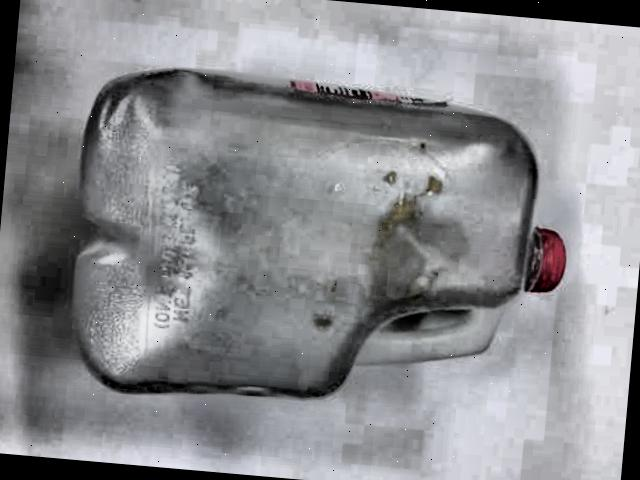Plastic: (26, 48, 601, 443)
